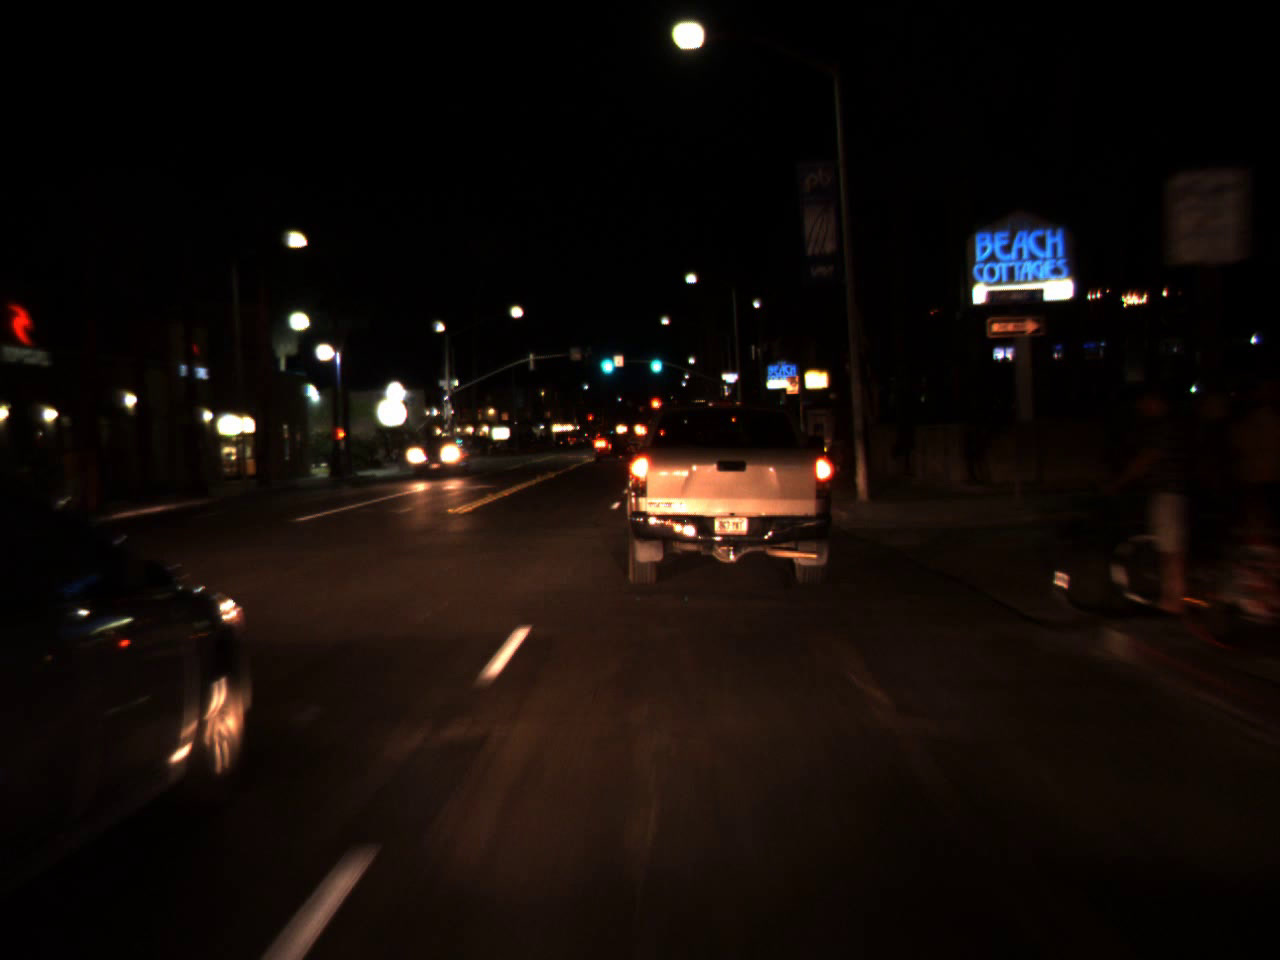go: (596, 340, 617, 379), (647, 344, 663, 377)
